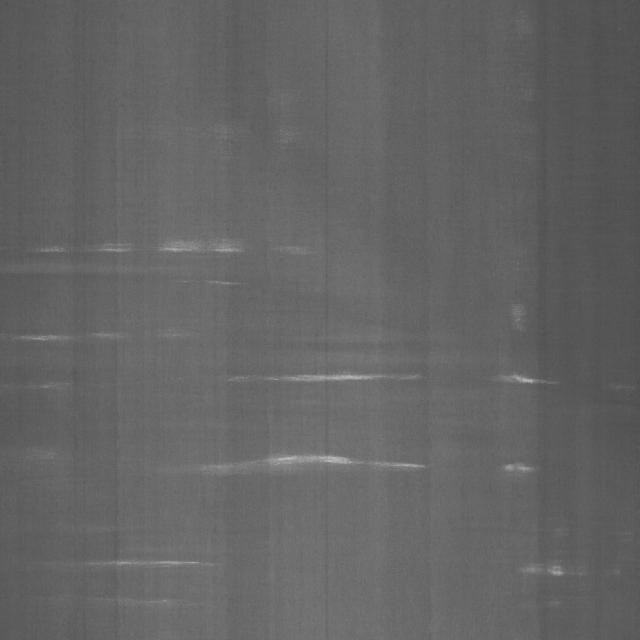punching_hole: (68, 71, 578, 605)
